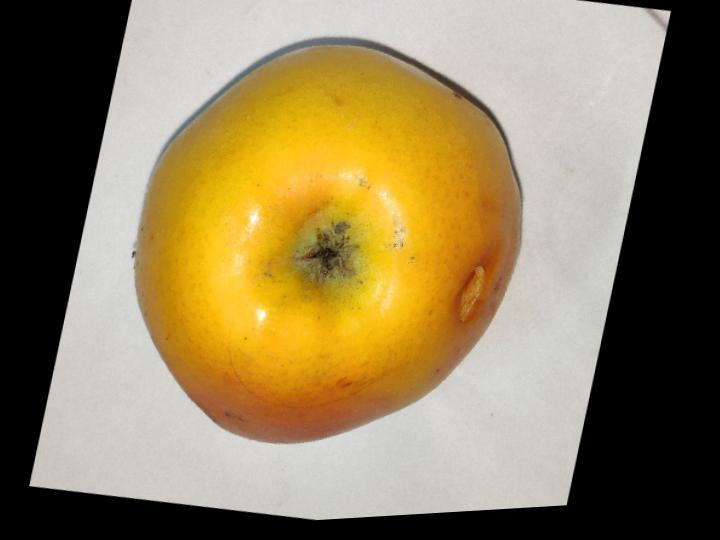apple: (135, 45, 520, 442)
surface_damage: (459, 265, 485, 321)
